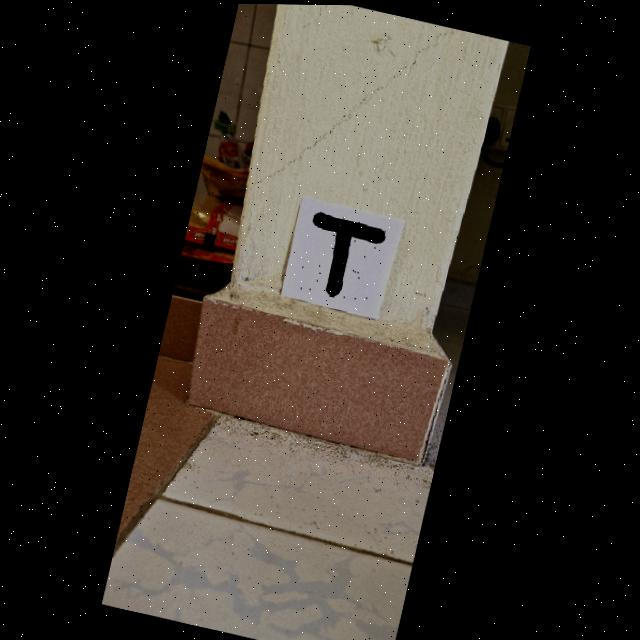T: (312, 212, 385, 295)
